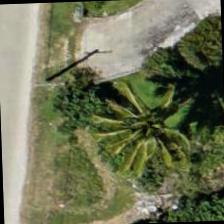Kelapa_Sawit: (102, 81, 195, 174)
